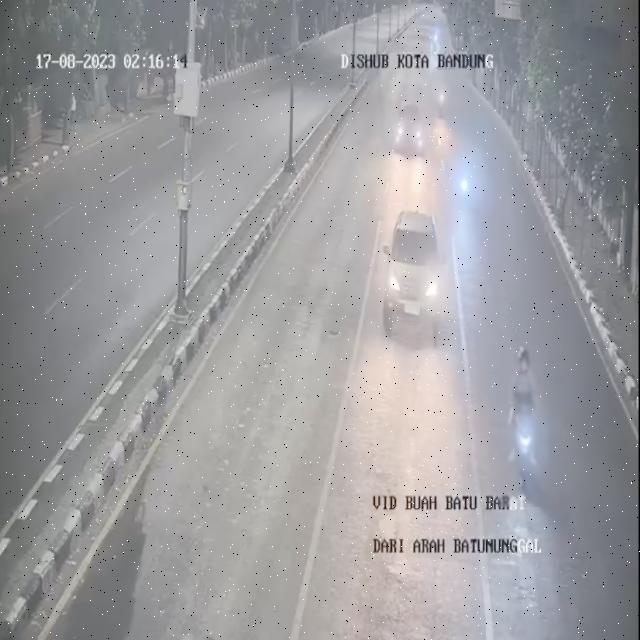cars: (378, 186, 454, 362), (388, 85, 428, 167)
motorcycle: (498, 332, 555, 507), (453, 133, 499, 223), (433, 67, 458, 137)
